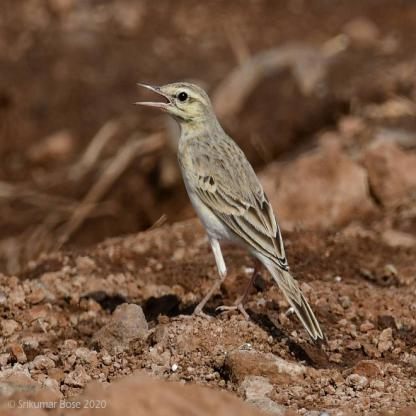Burung: (134, 80, 322, 343)
